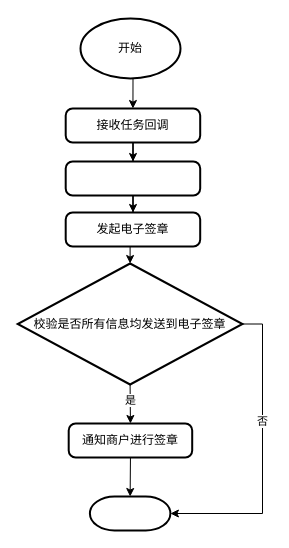
Image size: 289x548. Some labels were removed from this diagram. Here are the shapes that lost their labels. From the top down, the centre of each, then its label:
(x=132, y=178): 处理图片转为PDF
(x=129, y=513): 结束
